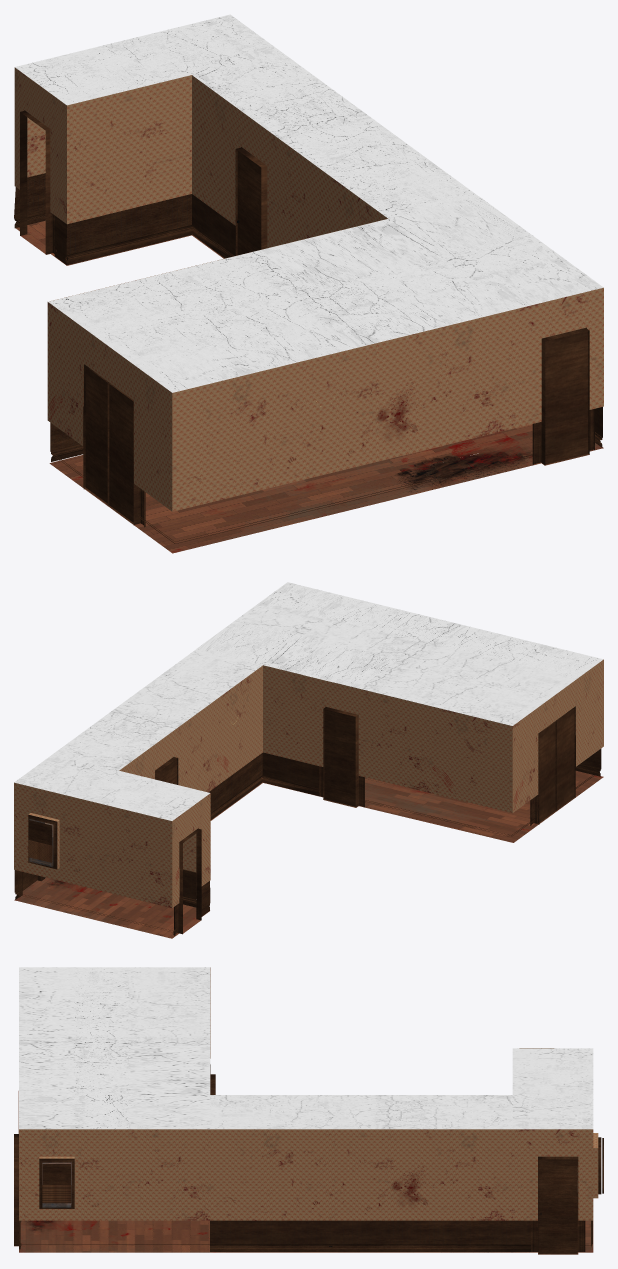
Rendered from room.gltf.
3 renders of one model, top to bottom at view 1: azimuth 30°, elevation 25°; view 2: azimuth 150°, elevation 25°; view 3: azimuth 270°, elevation 25°, orthographic. The views are drawn at different scales.
Parts seen in each view (by area): view 1: murs.003, murs.002, murs, murs.001, Sol.001, P_D.001, Tablier_moulures, BP_D.001, P_D, Tablier_moulures.001, BP_D, BP_G (+1 smaller); view 2: murs.002, murs.003, murs, murs.001, Sol.001, Sol, P_D.001, Porte_G.001, Tablier_moulures, Tablier_moulures.001, BP_D, Volet (+3 smaller); view 3: murs, murs.002, murs.001, murs.003, Tablier_moulures, Sol.001, P_D, Volet.001, BP_D, Fenetre.001, Sol, BP_D.001.
Boxes of the visible parts, x1,y1,x2,y2 form: murs.003: (47, 219, 603, 511); murs.002: (48, 196, 603, 392); murs: (14, 67, 387, 247); murs.001: (15, 14, 478, 218); Sol.001: (49, 424, 603, 553); P_D.001: (83, 331, 589, 523); Tablier_moulures: (14, 173, 235, 265); BP_D.001: (83, 327, 594, 527); P_D: (236, 149, 261, 255); Tablier_moulures.001: (50, 406, 602, 543); BP_D: (20, 110, 56, 254); BP_G: (235, 147, 267, 255); murs.002: (196, 582, 603, 725); murs.003: (263, 659, 603, 813); murs: (14, 665, 262, 907); murs.001: (14, 649, 262, 820); Sol.001: (261, 770, 603, 842); Sol: (14, 782, 262, 938); P_D.001: (537, 706, 575, 823); Porte_G.001: (323, 709, 355, 807); Tablier_moulures: (14, 753, 262, 934); Tablier_moulures.001: (262, 669, 601, 836); BP_D: (18, 821, 201, 935); Volet: (28, 820, 52, 867); murs: (210, 1048, 598, 1220); murs.002: (19, 967, 210, 1129); murs.001: (210, 1048, 593, 1129); murs.003: (19, 967, 210, 1220); Tablier_moulures: (210, 1220, 592, 1251); Sol.001: (14, 1091, 210, 1252); P_D: (538, 1159, 577, 1254); Volet.001: (42, 1164, 71, 1208); BP_D: (531, 1156, 585, 1251); Fenetre.001: (39, 1158, 74, 1208); Sol: (210, 1220, 593, 1254); BP_D.001: (14, 1134, 20, 1249).
Size of the model in its own units: 7.82 by 2.78 by 11.7.
Materials: 11 (10 with a texture image).
